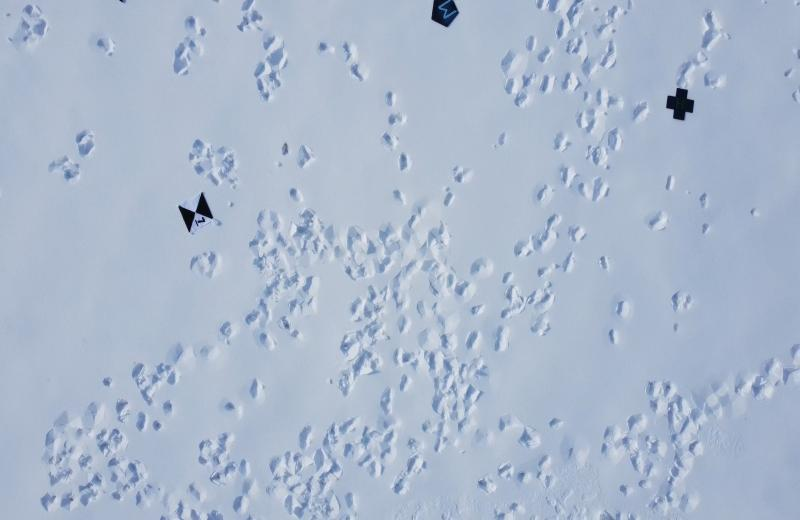Cross: (662, 86, 694, 123)
Pentagon: (429, 0, 461, 34)
